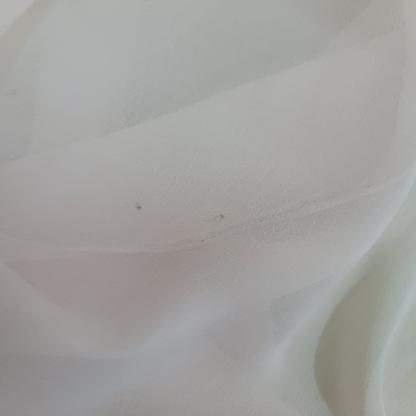spot: (130, 196, 153, 214), (206, 211, 232, 224)
